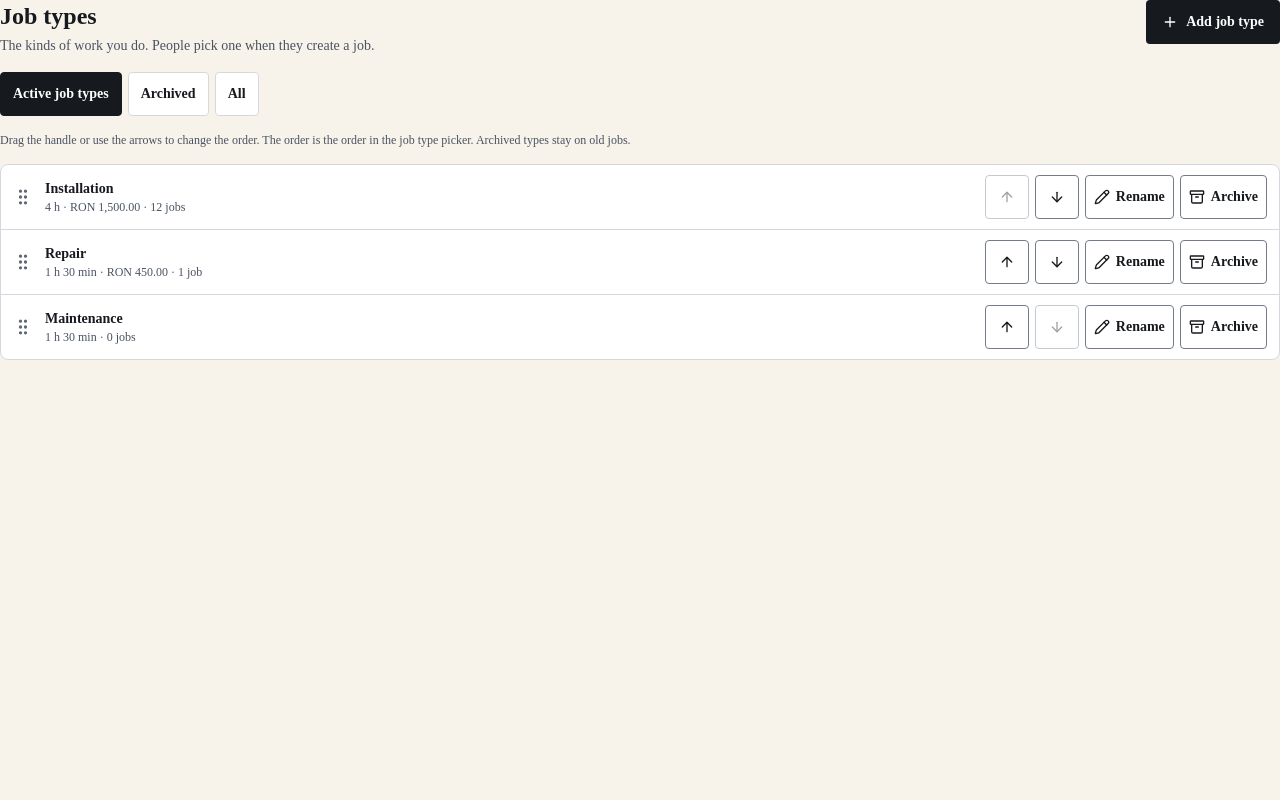
Test: Job types admin (ce3173a7) › add and rename › a name you already have (any case) is refused on the field, with focus there, before any request
Expected: the text "Installation" is shown, x1=45 y1=179 x2=114 y2=199
Click the button "Add job type" at (1213, 22), box x1=1146 y1=0 x2=1279 y2=44
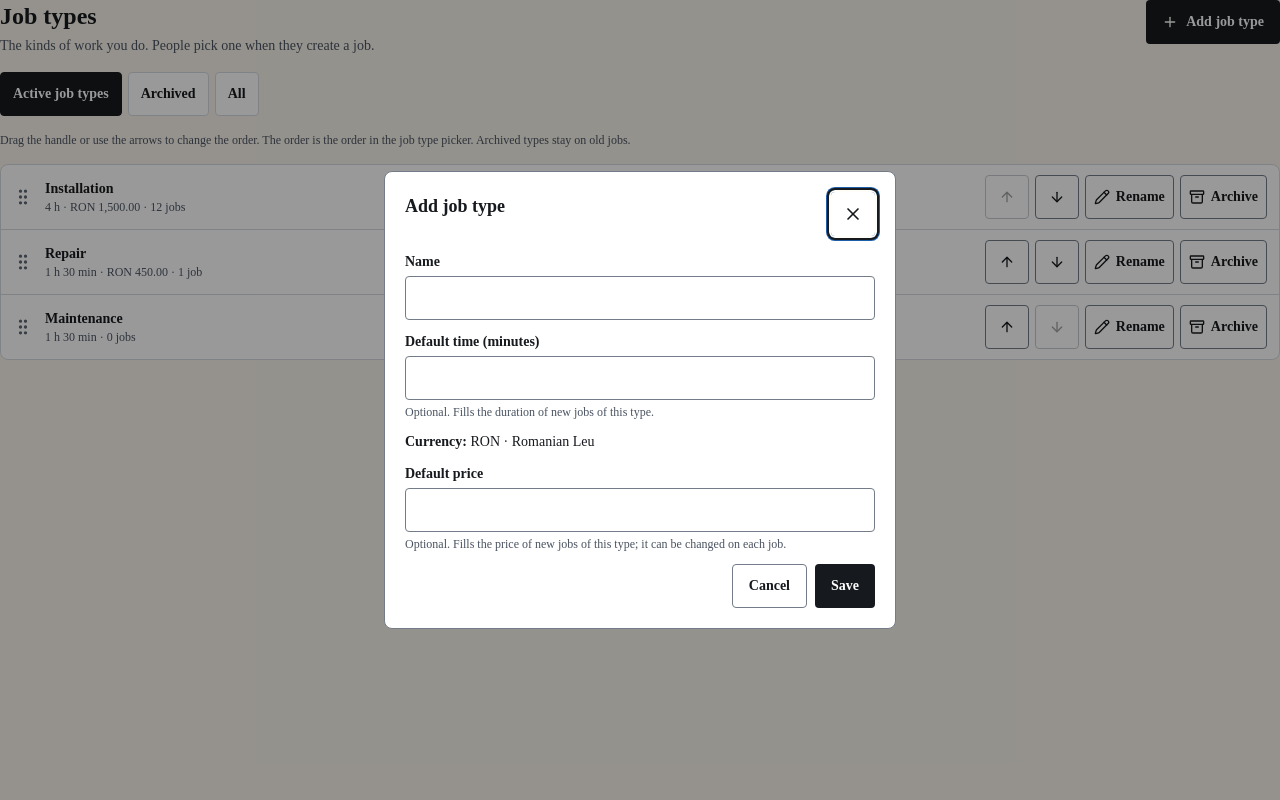
Type "repair" into the field labelled "Name" at (640, 298), box x1=405 y1=276 x2=875 y2=320
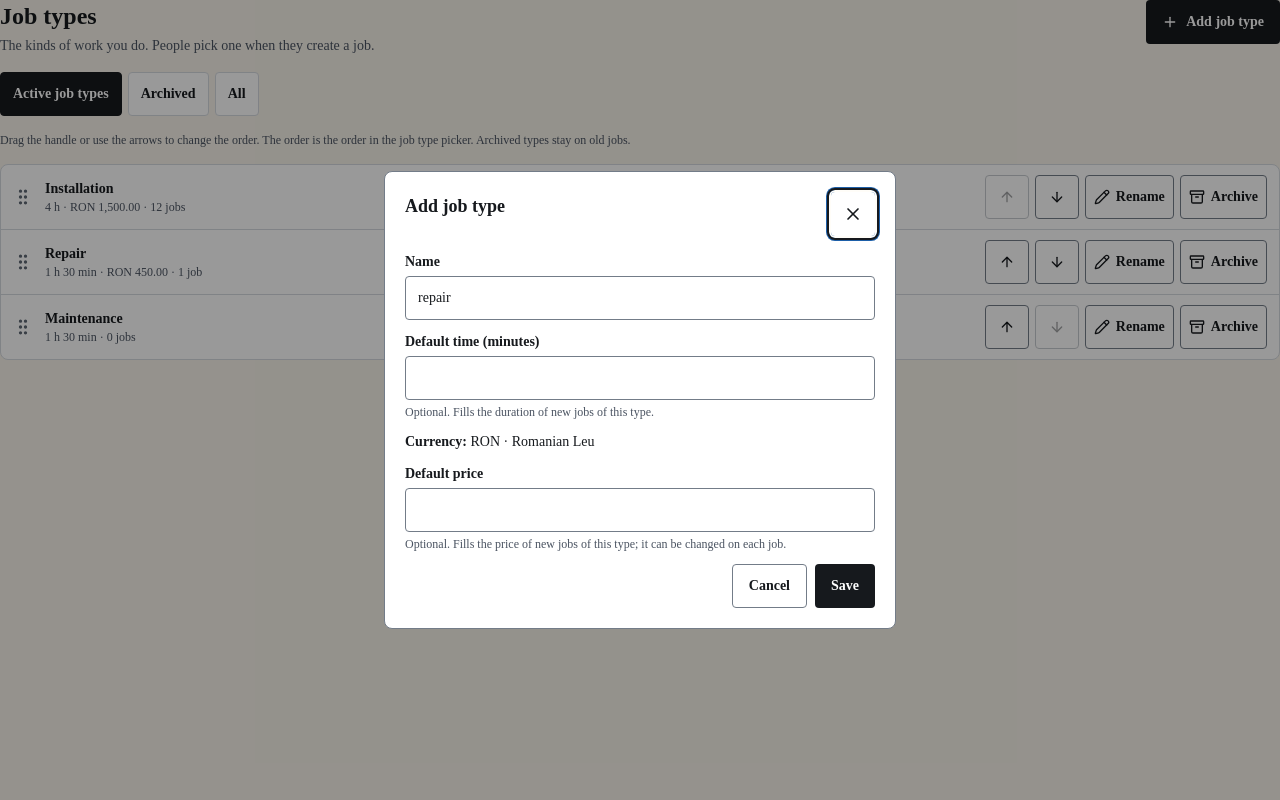
Click the button "Save" at (845, 586), box x1=815 y1=564 x2=875 y2=608
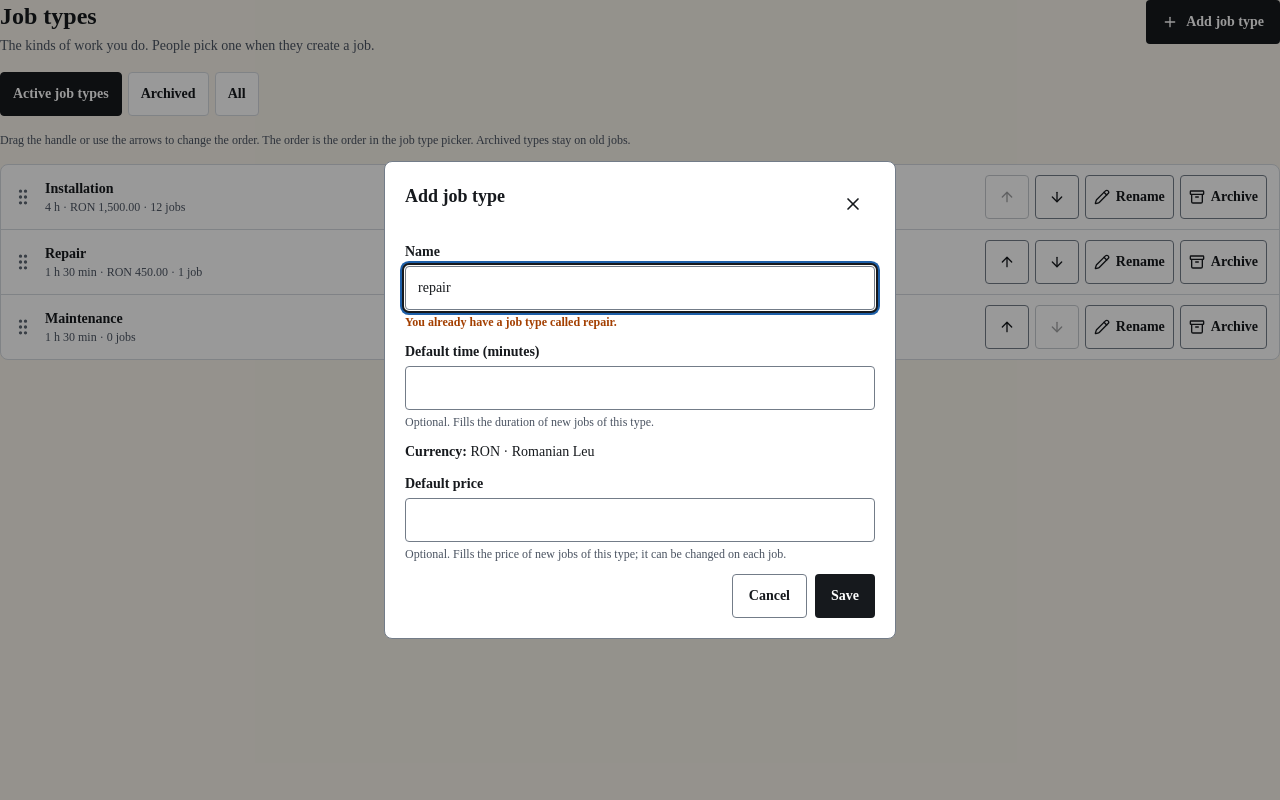
Now the text "You already have a job type called repair." is shown, box x1=405 y1=315 x2=617 y2=329
